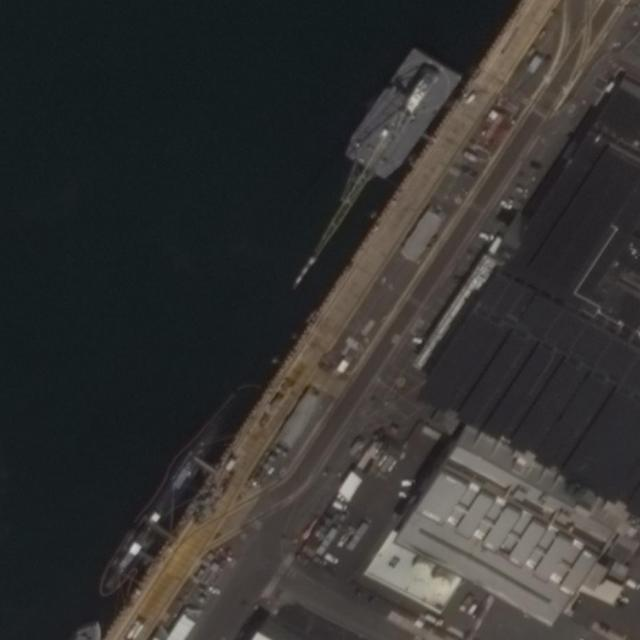Submarine: (93, 436, 214, 602)
